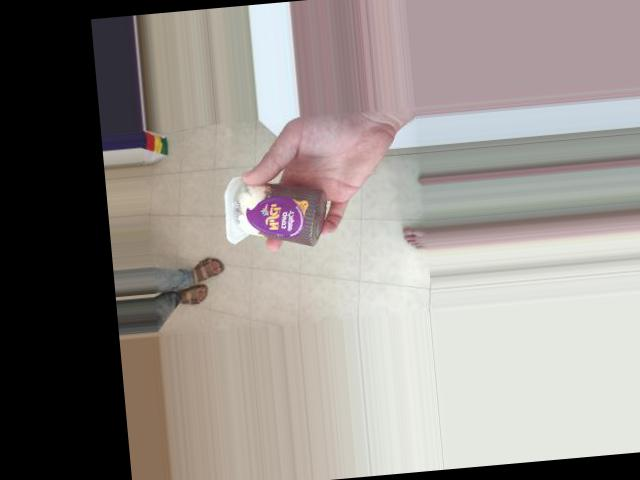milky: (220, 173, 344, 245)
